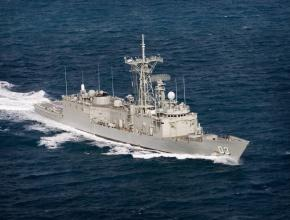warship: (32, 52, 259, 164)
